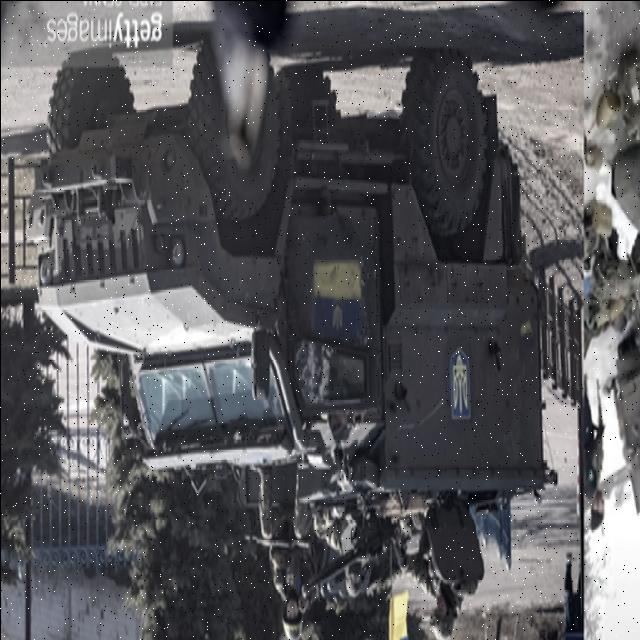CAR: (26, 34, 548, 518)
